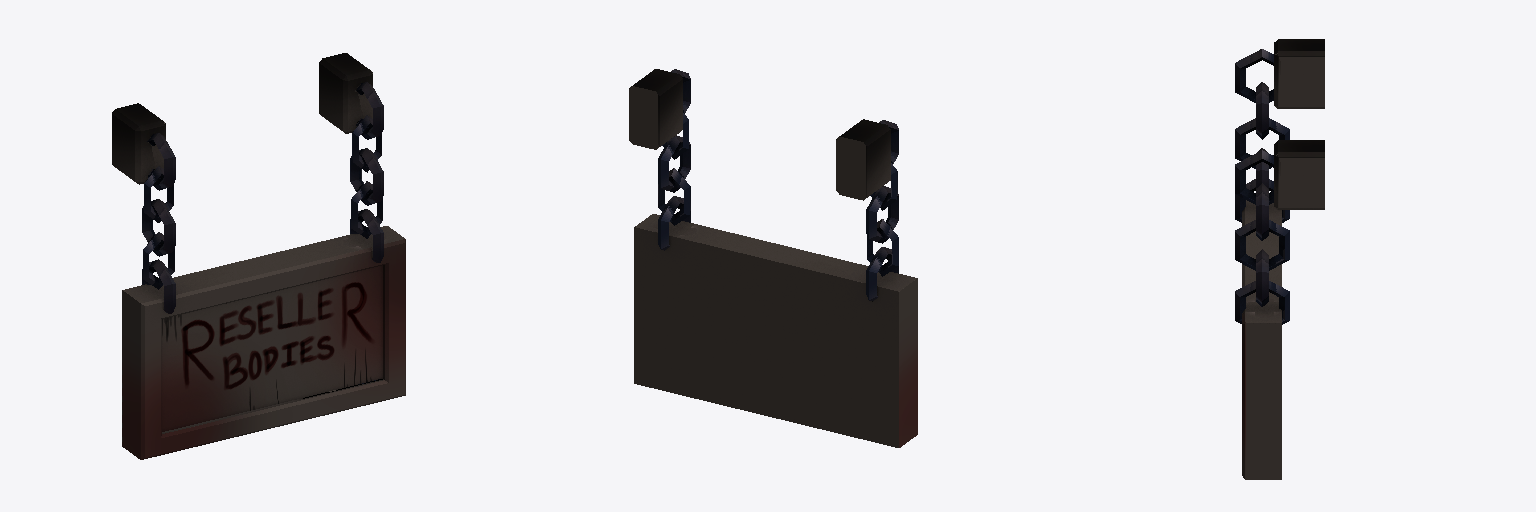
3 renders of one model, left to right at view 1: azimuth 30°, elevation 25°; view 2: azimuth 150°, elevation 25°; view 3: azimuth 270°, elevation 25°, orthographic.
Visible parts, largest first — view 1: Cube; view 2: Cube; view 3: Cube.
Part boxes in pixels (x1,y1,x2,y2): Cube: (112, 53, 405, 459); Cube: (629, 69, 917, 447); Cube: (1235, 39, 1324, 479).
Bounding box in the file's own units: 2.38 × 2.73 × 0.7073.
Materials: 1 (1 with a texture image).